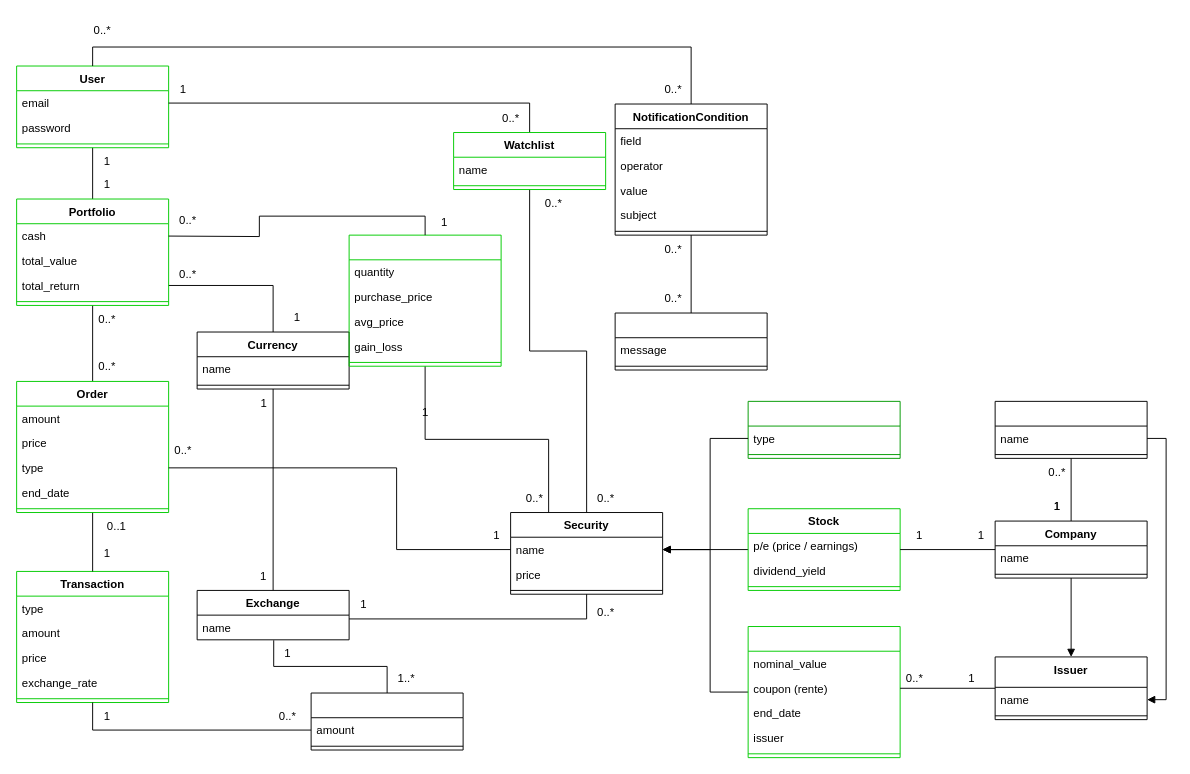
Some shapes in this 1190 by 774 pixel diagram are drawn without their labels. Each missing label, with the box of its shape:
Bond: (747, 626, 900, 758)
Country: (994, 400, 1147, 458)
Crypto: (747, 400, 900, 458)
Fee: (310, 692, 463, 750)
Holding: (348, 234, 501, 366)
Notification: (614, 312, 767, 370)
